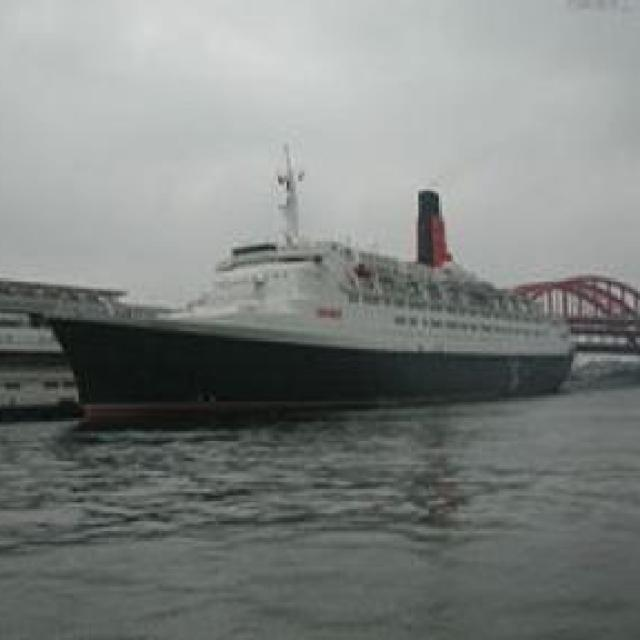passenger ship: (52, 142, 582, 422)
